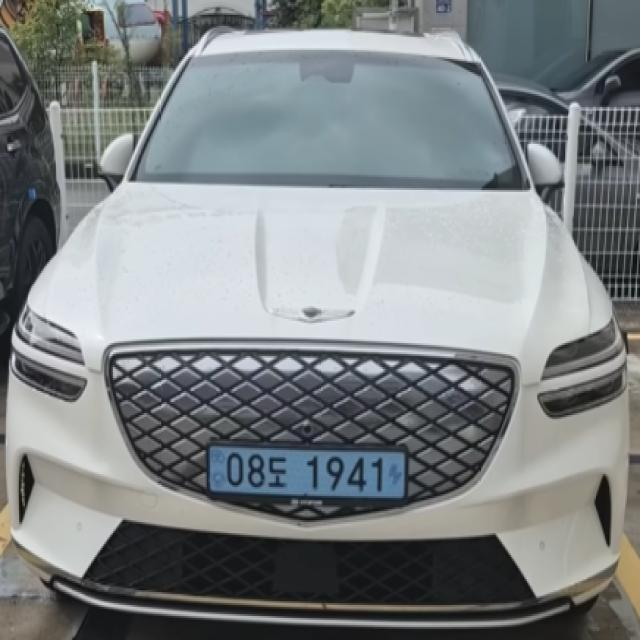car: (175, 430, 441, 521)
carev: (204, 439, 228, 503), (384, 443, 408, 506)
